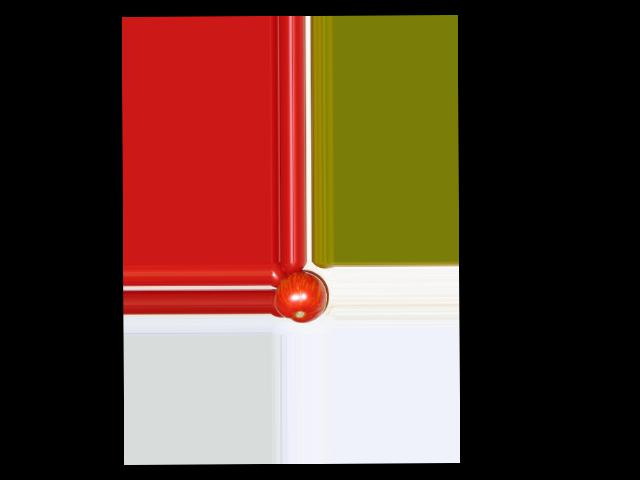tomato: (274, 270, 327, 323)
